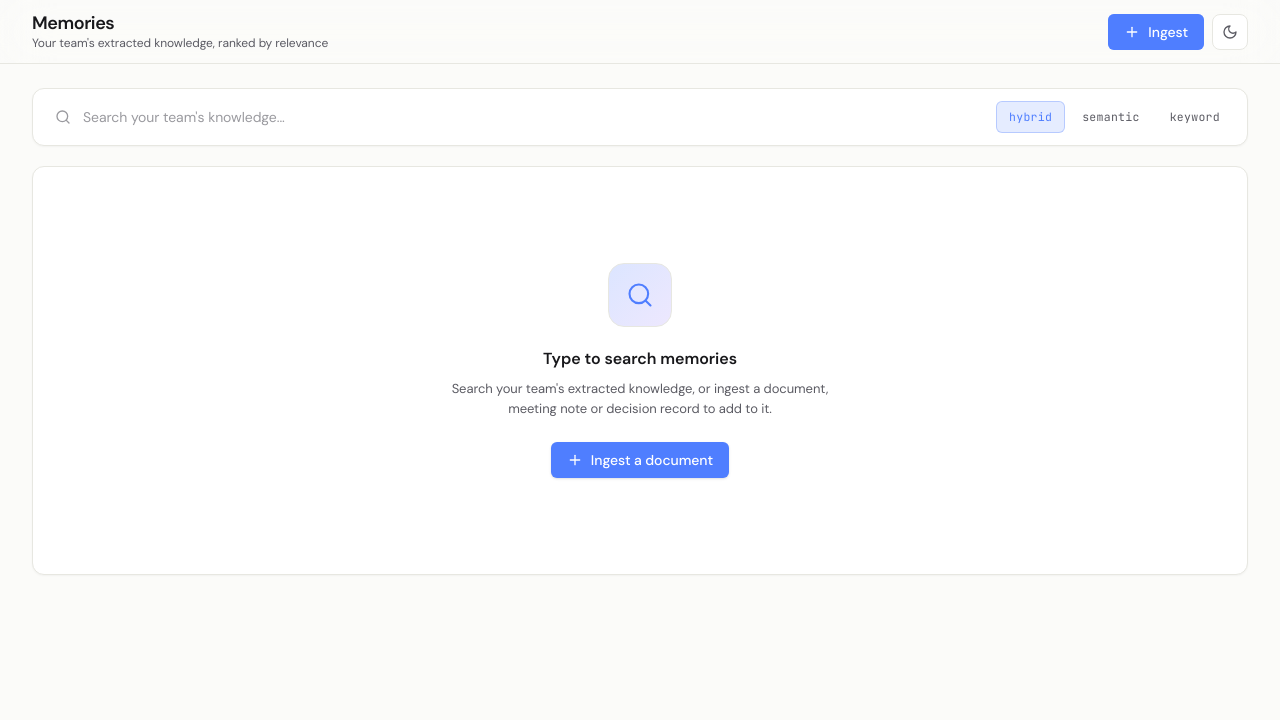
what the ingest sheet says up front › normal mode explains that text becomes searchable facts, possibly several, one or none
Click the button with test id "ingest-open-btn" at x=1156, y=32, box x1=1108 y1=14 x2=1204 y2=50
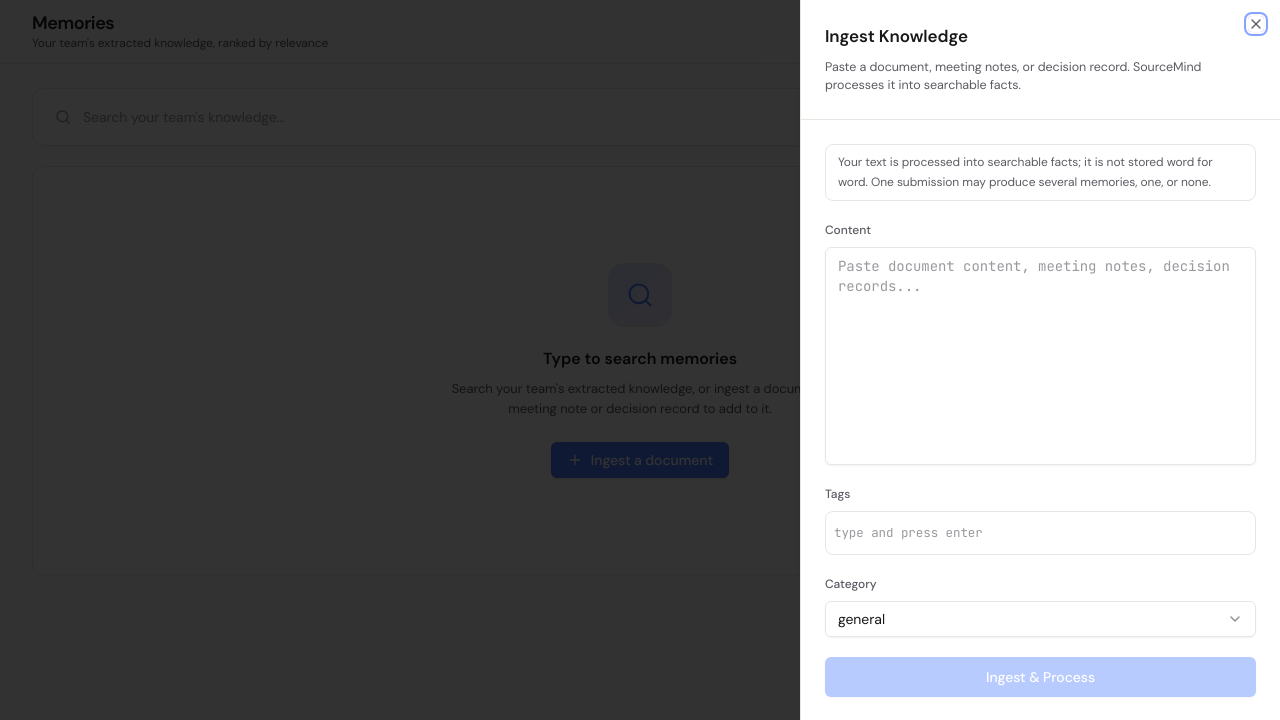
Now the text with test id "ingest-explainer" shows "processed into searchable facts", box x1=838 y1=154 x2=1213 y2=190
Now the text with test id "ingest-explainer" shows "several memories, one, or none", box x1=838 y1=154 x2=1213 y2=190
Now the text with test id "ingest-explainer" shows "not stored word for word", box x1=838 y1=154 x2=1213 y2=190
